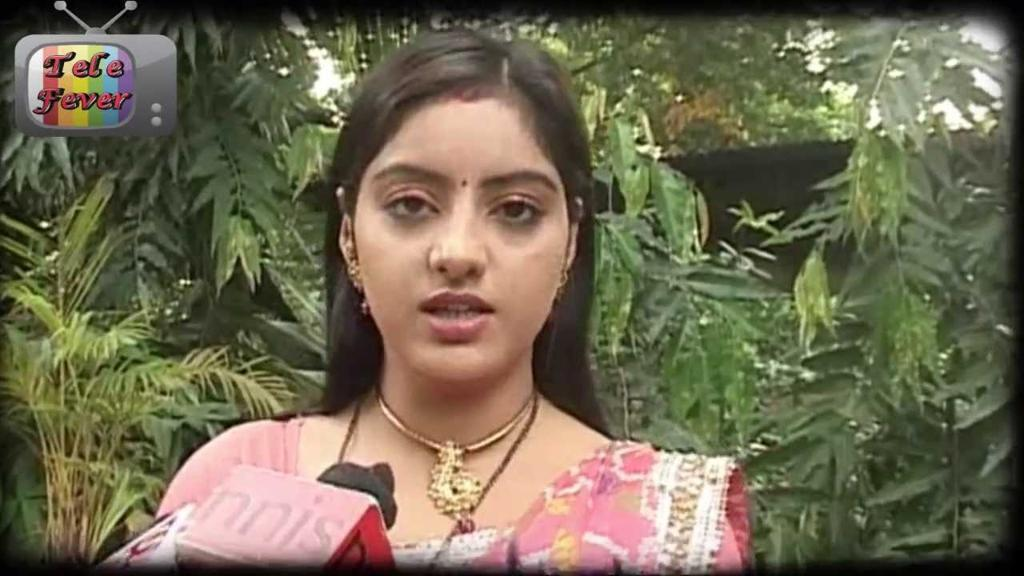face: (369, 105, 573, 367)
